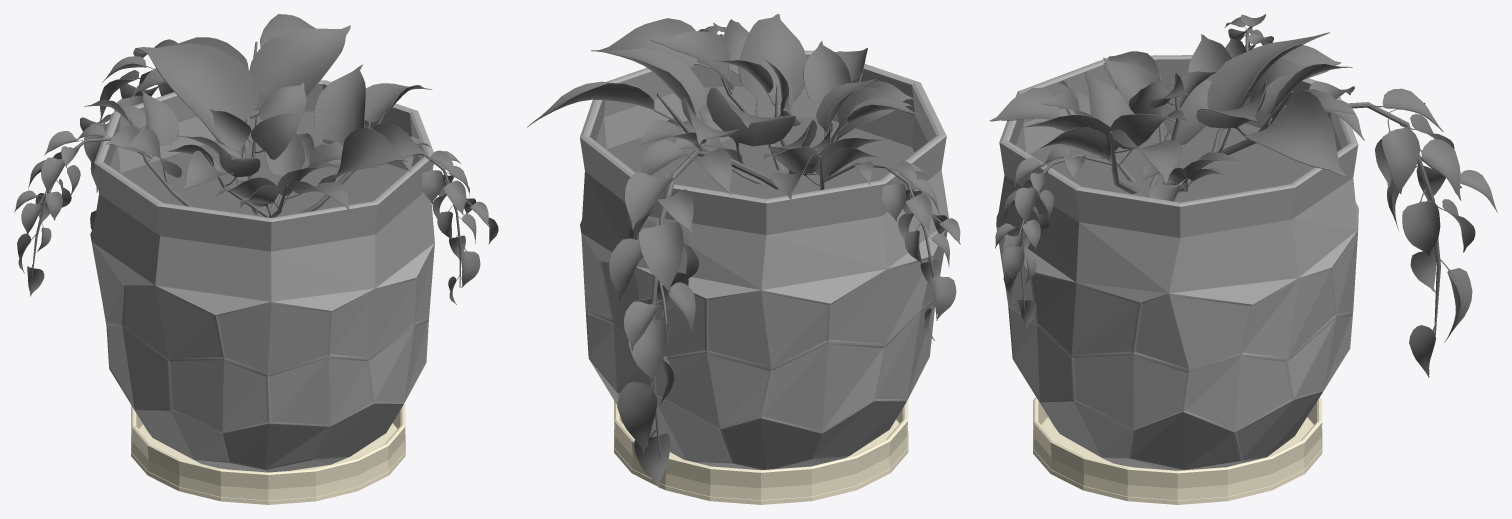
The model's file is plant_FBX.FBX.
3 renders of one model, left to right at view 1: azimuth 30°, elevation 25°; view 2: azimuth 150°, elevation 25°; view 3: azimuth 270°, elevation 25°, orthographic. The views are drawn at different scales.
Parts seen in each view (by area): view 1: flower pot, plant; view 2: flower pot, plant; view 3: flower pot, plant.
Boxes of the visible parts, x1,y1,x2,y2 form: flower pot: (90,80,434,504); plant: (14,14,498,304); flower pot: (580,50,948,504); plant: (527,14,960,488); flower pot: (996,55,1358,504); plant: (989,14,1497,377).
Size of the model in its own units: 23.14 by 21.57 by 25.56.
